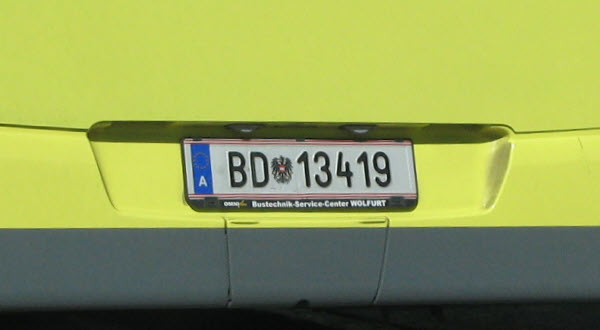license_plate: (182, 138, 420, 201)
